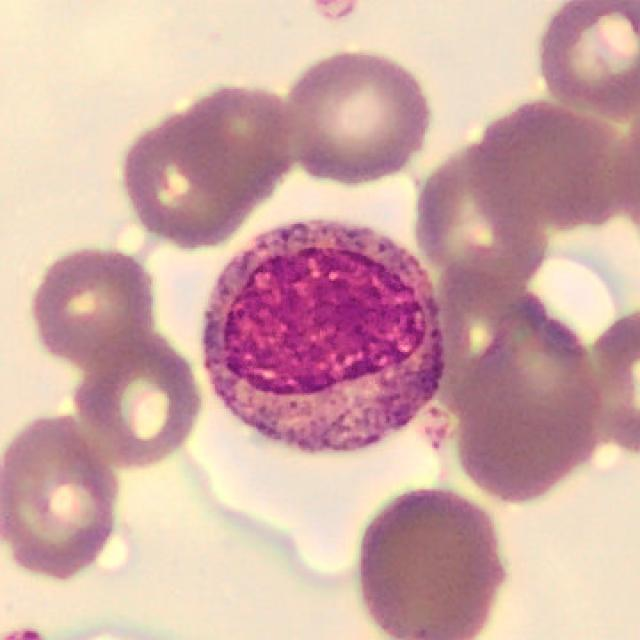Mielocito: (203, 220, 444, 453)
